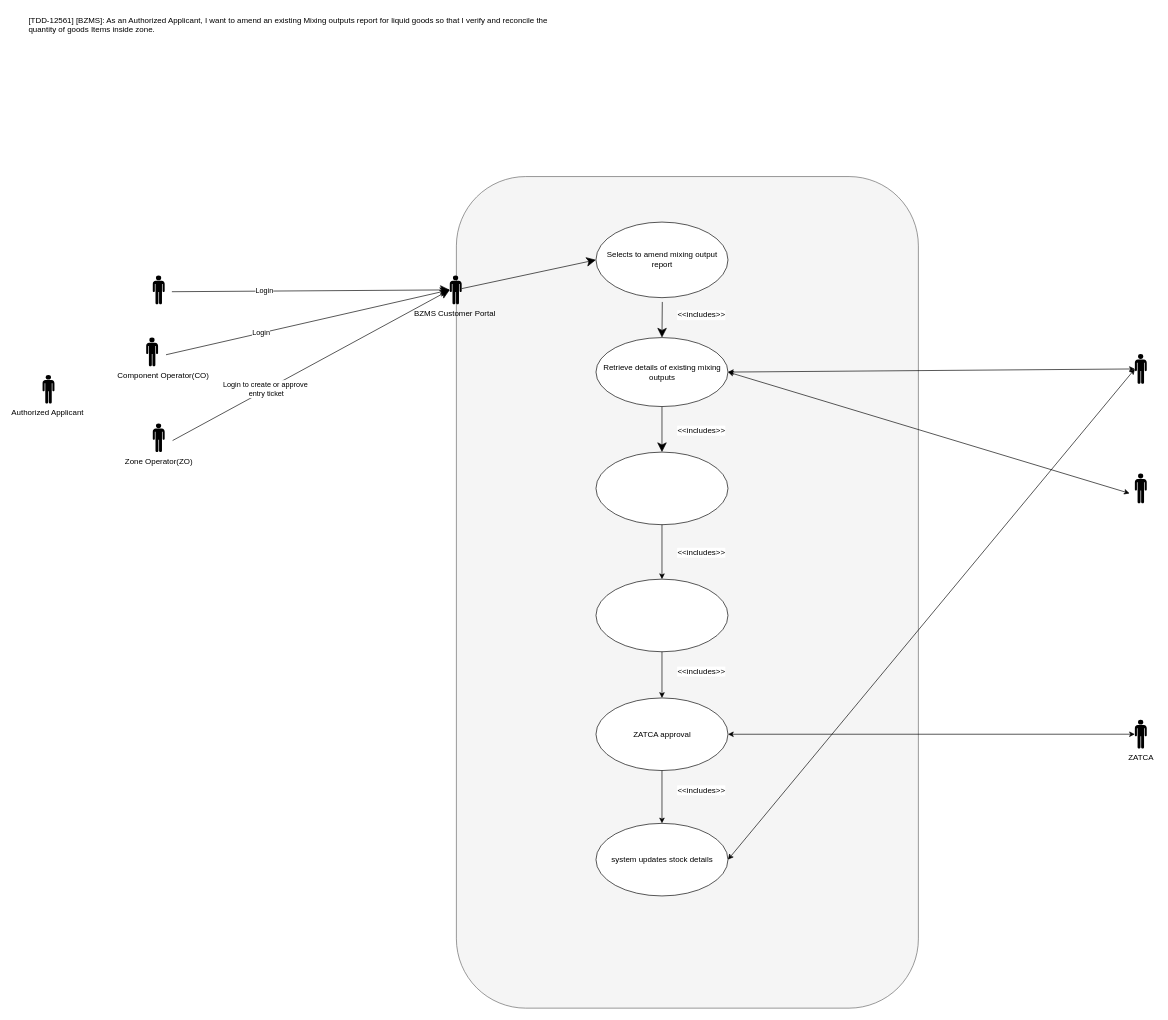
The diagram is 1168 pixels wide and 1020 high, and some of its shapes have lost their labels. Here are the shapes that lost their labels. From the top down, the centre of each, then its label:
At [158,289]: "Trader".
At [1140,368]: "Postgres".
At [661,488]: "Select and amend report details".
At [1140,488]: "Pega".
At [661,615]: "Submit ticket".
